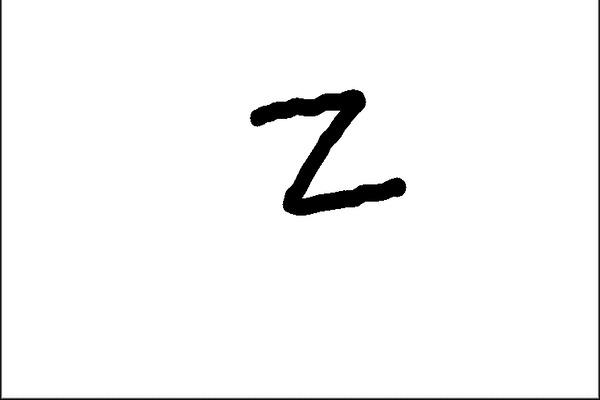Z: (233, 80, 413, 222)
